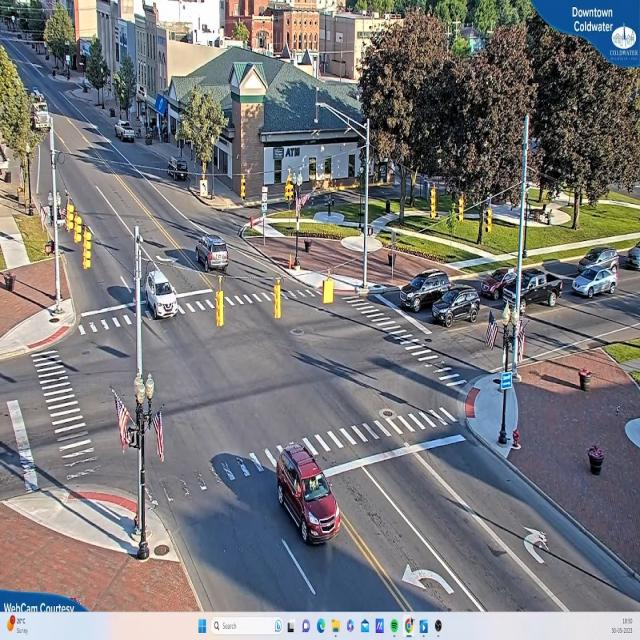car: (276, 442, 341, 546), (492, 271, 562, 308), (400, 272, 454, 314), (193, 226, 232, 282), (146, 264, 179, 326), (432, 290, 480, 328), (573, 268, 618, 298), (117, 122, 137, 144)
